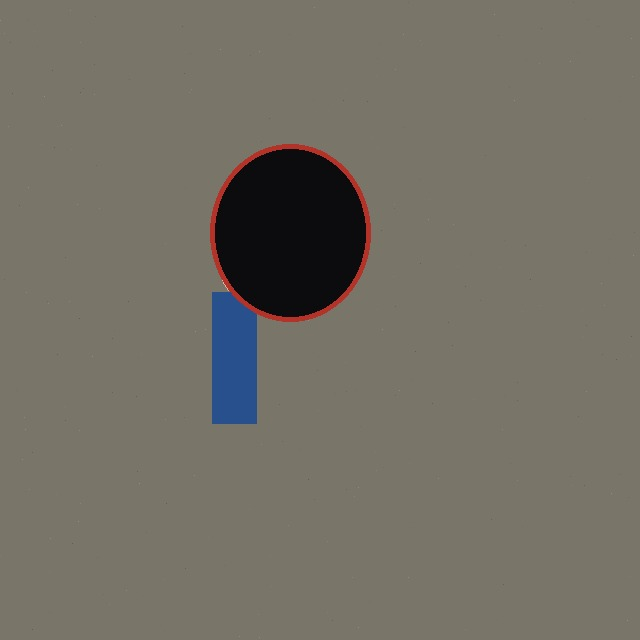open_manhole: (210, 144, 370, 321)
person: (190, 227, 278, 423)
